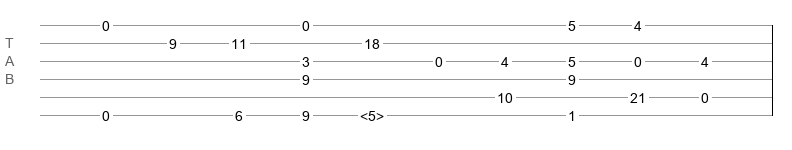0: (102, 108, 110, 118), (102, 18, 110, 28), (302, 18, 310, 28), (435, 54, 443, 64), (634, 54, 642, 64), (701, 90, 709, 100)
1: (568, 108, 576, 118)
10: (497, 90, 513, 100)
11: (231, 36, 247, 46)
18: (364, 36, 380, 46)
21: (630, 90, 646, 100)
3: (302, 54, 310, 64)
4: (501, 54, 509, 64), (634, 18, 642, 28), (701, 54, 709, 64)
5: (568, 18, 576, 28), (568, 54, 576, 64)
6: (235, 108, 243, 118)
9: (169, 36, 177, 46), (302, 72, 310, 82), (302, 108, 310, 118), (568, 72, 576, 82)
harmonic: (360, 108, 384, 118)
